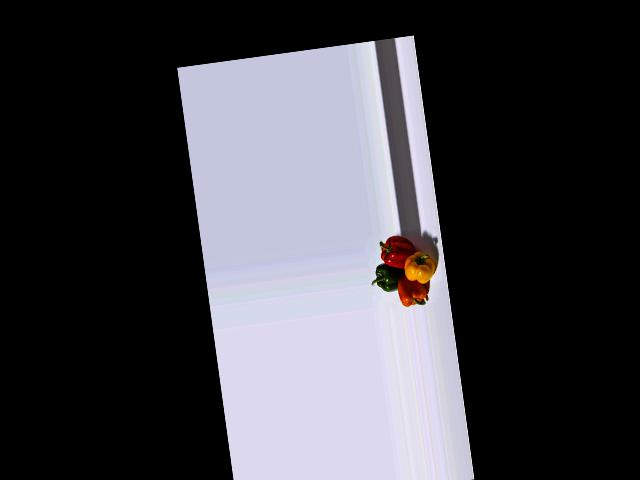bell_pepper: (375, 232, 417, 271)
